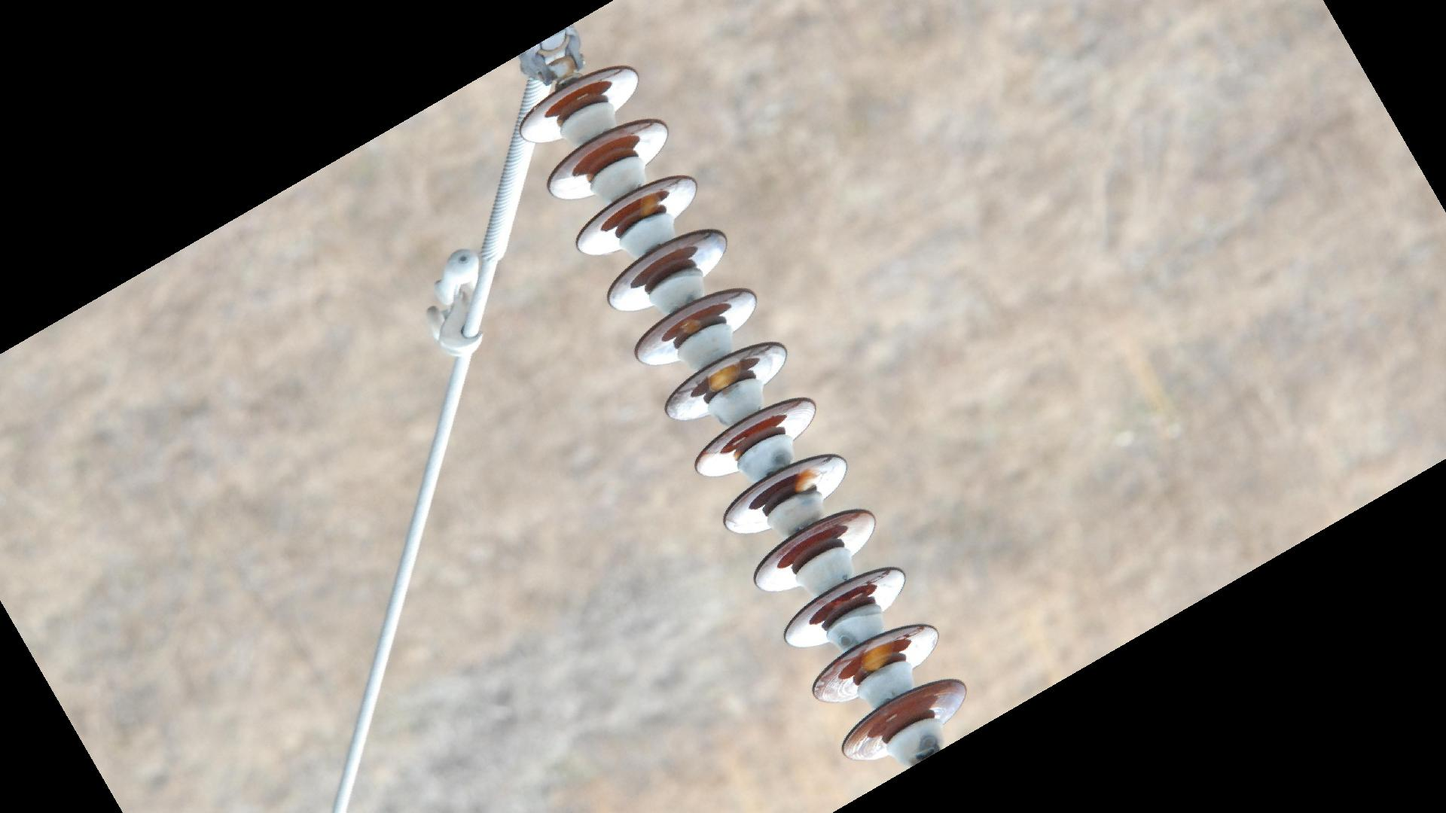insulator: (515, 59, 971, 769)
insulator_flashover: (859, 632, 896, 674), (705, 355, 743, 394), (792, 464, 823, 495), (636, 188, 664, 220)
